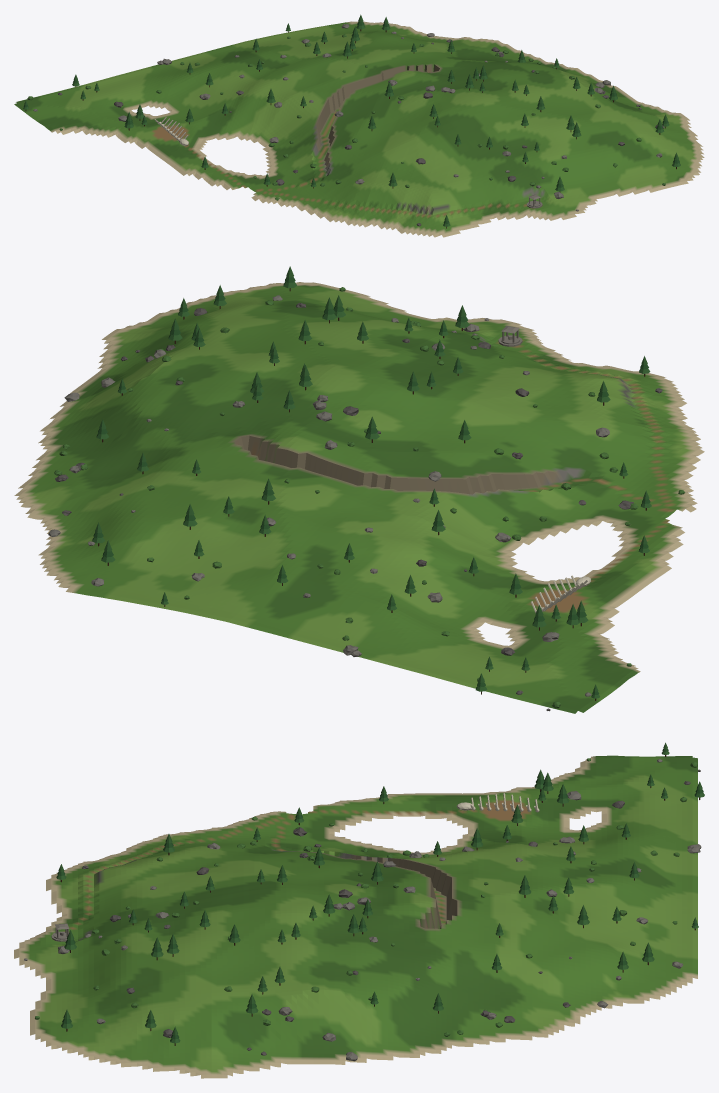
File: arch_isl_coil_isle.glb
3 renders of one model, top to bottom at view 1: azimuth 30°, elevation 25°; view 2: azimuth 150°, elevation 25°; view 3: azimuth 270°, elevation 25°, orthographic. The views are drawn at different scales.
Parts seen in each view (by area): view 1: geometry_0; view 2: geometry_0; view 3: geometry_0.
Boxes of the visible parts, x1,y1,x2,y2 form: geometry_0: (14, 14, 704, 237); geometry_0: (14, 266, 704, 713); geometry_0: (14, 742, 704, 1078).
Bounding box in the file's own units: 284 × 30.08 × 259.
